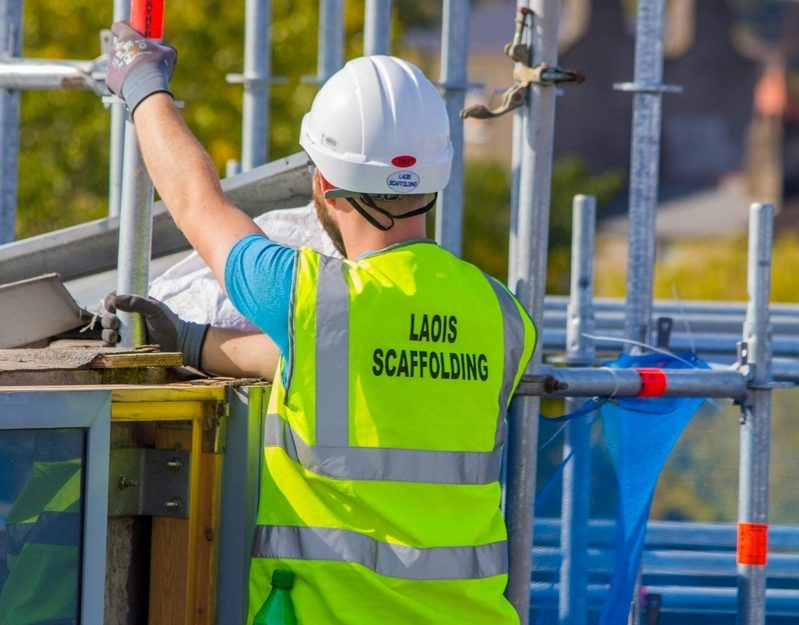Helmet: (273, 27, 472, 270)
Reflective vest: (246, 242, 537, 625)
